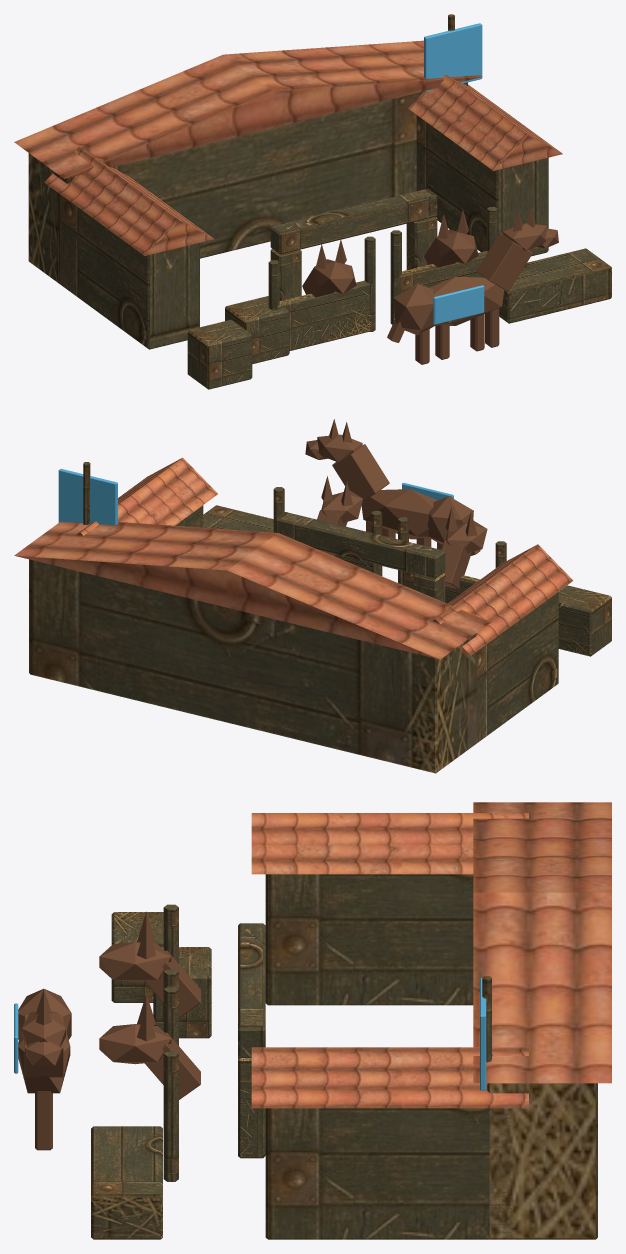
File: edificio-b_017-e1-lod0-DckYOcRM.glb
The picture shows the model from 3 angles, top to bottom: view 1: azimuth 30°, elevation 25°; view 2: azimuth 150°, elevation 25°; view 3: azimuth 270°, elevation 25°; orthographic projection. The views are drawn at different scales.
Parts seen in each view (by area): view 1: envolvente_establo, caballos_establo, team_color; view 2: envolvente_establo, caballos_establo, team_color; view 3: envolvente_establo, caballos_establo, team_color.
Part boxes in pixels (<box>): envolvente_establo: <box>14,14,611,389</box>; caballos_establo: <box>302,208,558,364</box>; team_color: <box>424,23,484,324</box>; envolvente_establo: <box>14,457,611,773</box>; caballos_establo: <box>305,419,487,589</box>; team_color: <box>58,468,453,525</box>; envolvente_establo: <box>91,802,611,1239</box>; caballos_establo: <box>18,911,200,1150</box>; team_color: <box>14,978,486,1090</box>.
Size of the model in its own units: 48.25 by 20 by 43.16.
3 materials, 1 textured.
